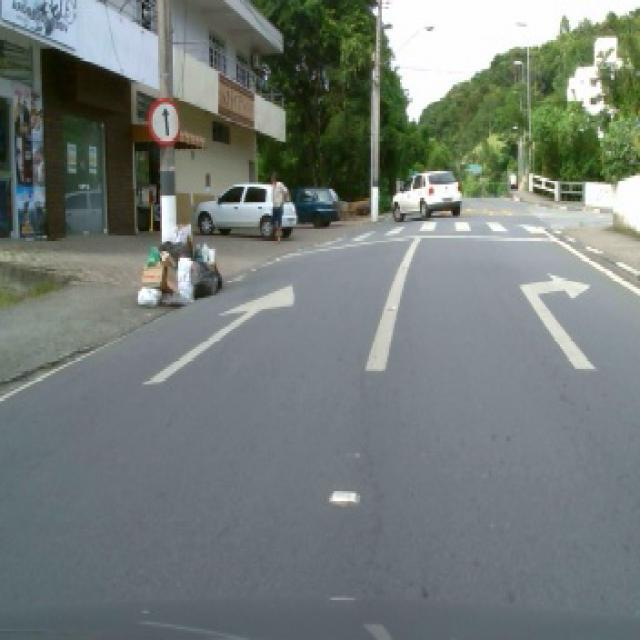Poth-hole: (327, 484, 362, 504), (387, 302, 398, 309)
